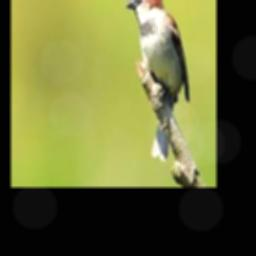Sparrow: (126, 0, 190, 160)
